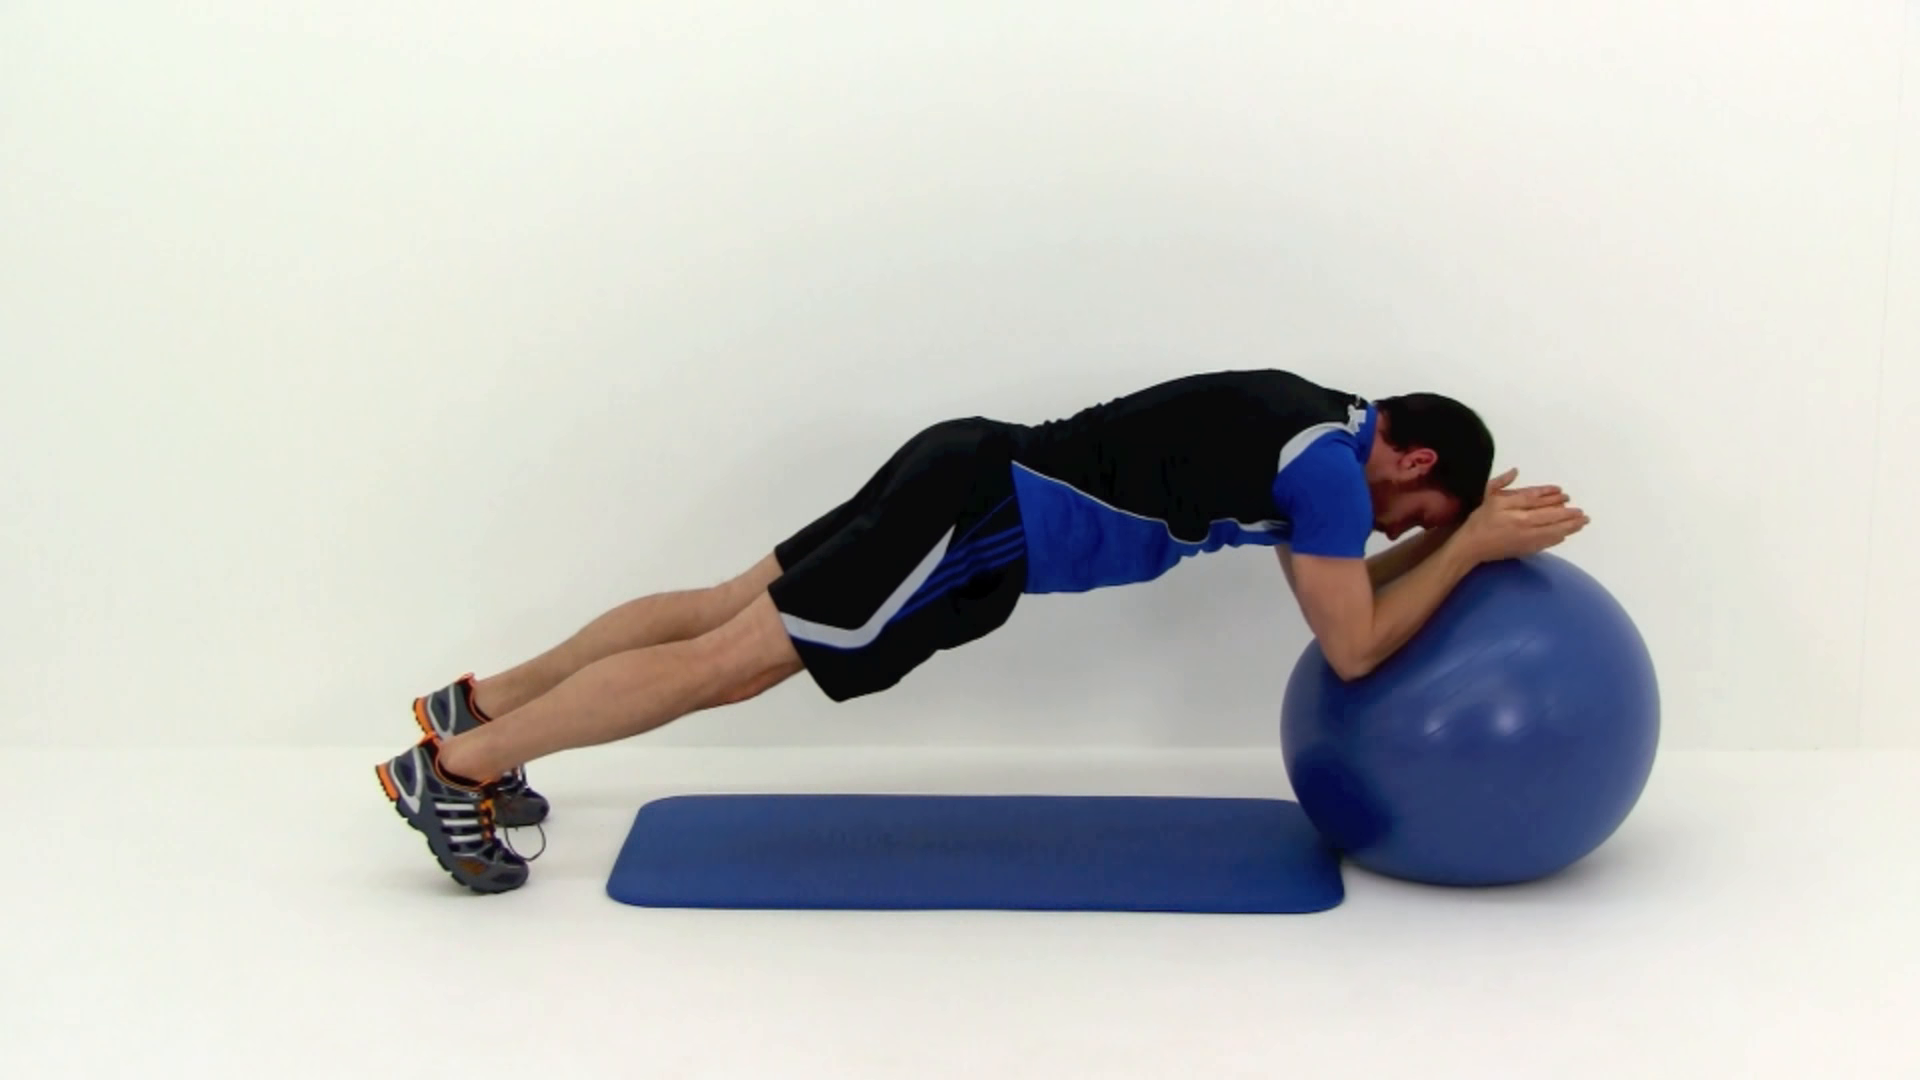yogaball: (1273, 533, 1669, 903)
